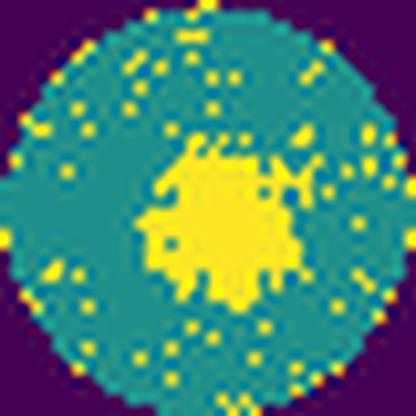Center: (132, 134, 325, 314)
